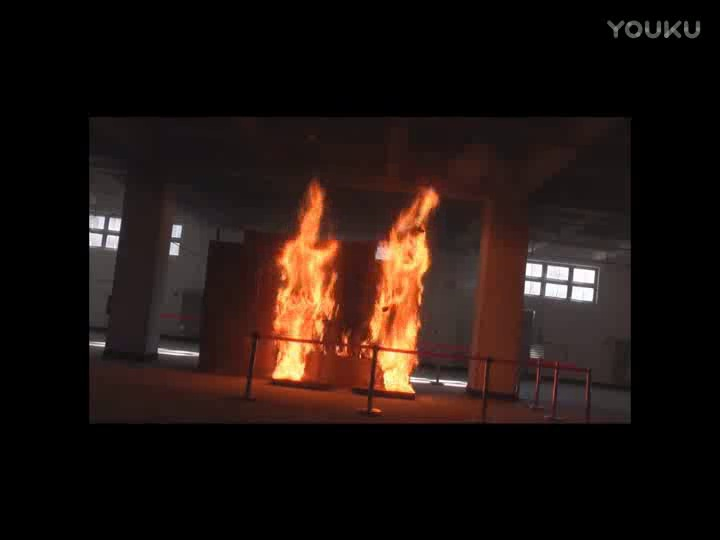fire: (371, 185, 438, 393), (273, 180, 338, 385)
